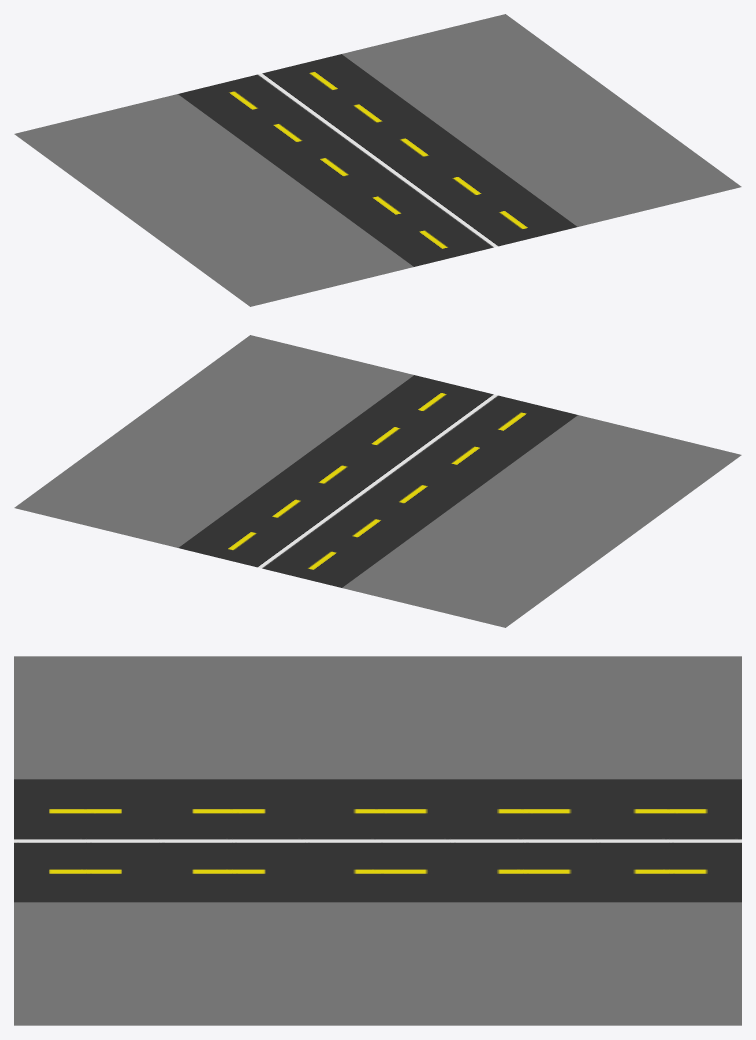
File: Suelo.fbx
The picture shows the model from 3 angles, top to bottom: view 1: azimuth 30°, elevation 25°; view 2: azimuth 150°, elevation 25°; view 3: azimuth 270°, elevation 25°; orthographic projection. The views are drawn at different scales.
Parts seen in each view (by area): view 1: polySurface10; view 2: polySurface10; view 3: polySurface10.
Part boxes in pixels (x1,y1,x2,y2): polySurface10: [14, 14, 741, 306]; polySurface10: [14, 335, 741, 627]; polySurface10: [14, 656, 741, 1025].
Bounding box in the file's own units: 56.14 × 0 × 46.75.
Materials: 1 (1 with a texture image).
